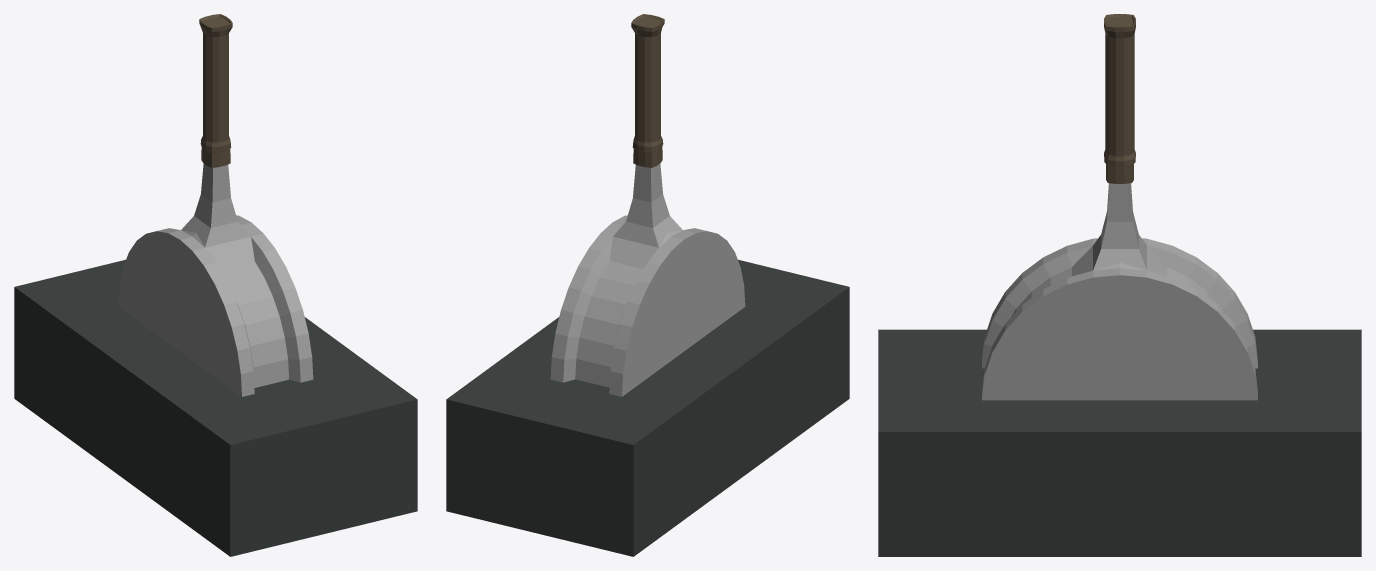
The model's file is 回転レバー.fbx.
The picture shows the model from 3 angles, left to right: view 1: azimuth 30°, elevation 25°; view 2: azimuth 150°, elevation 25°; view 3: azimuth 270°, elevation 25°; orthographic projection. The views are drawn at different scales.
Parts seen in each view (by area): view 1: 土台, 回転部分, 持ち手; view 2: 土台, 回転部分, 持ち手; view 3: 土台, 回転部分, 持ち手.
Part boxes in pixels (x1,y1,x2,y2): 土台: [14, 259, 417, 556]; 回転部分: [118, 163, 313, 396]; 持ち手: [199, 14, 232, 167]; 土台: [446, 259, 849, 556]; 回転部分: [550, 163, 745, 396]; 持ち手: [631, 14, 664, 167]; 土台: [878, 329, 1361, 556]; 回転部分: [982, 183, 1257, 400]; 持ち手: [1104, 14, 1135, 183].
Size of the model in its own units: 21 by 46.54 by 42.
